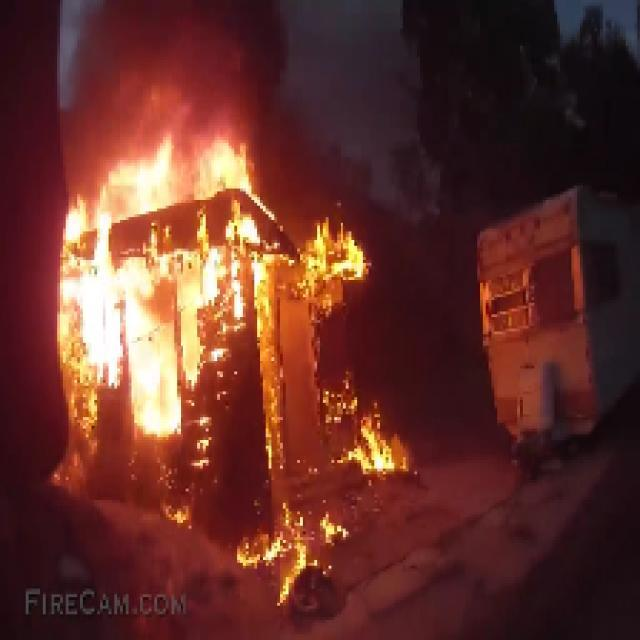Fire: (52, 117, 417, 612)
Smoke: (55, 3, 292, 140)
